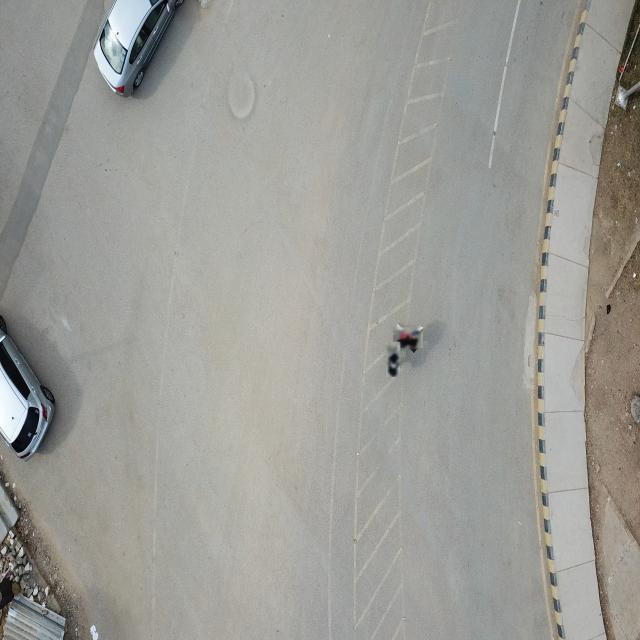Manusia: (394, 325, 422, 351), (386, 342, 401, 378)
